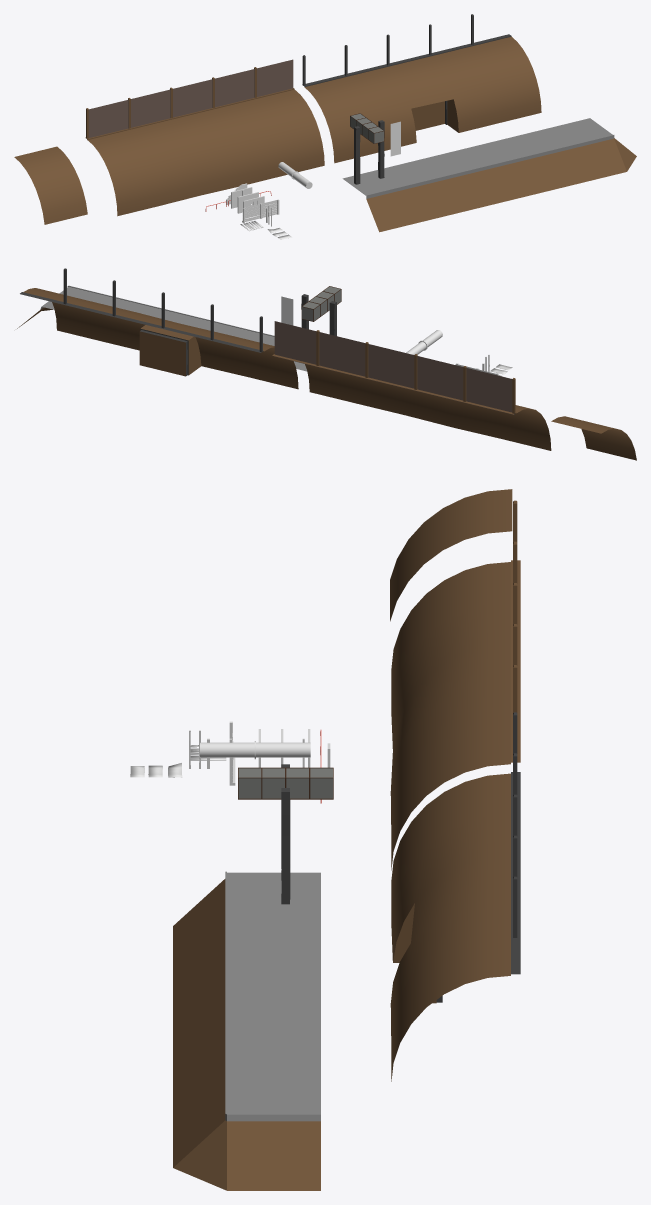
File: ConstructionsConcrete.fbx
The picture shows the model from 3 angles, top to bottom: view 1: azimuth 30°, elevation 25°; view 2: azimuth 150°, elevation 25°; view 3: azimuth 270°, elevation 25°; orthographic projection. The views are drawn at different scales.
Visible parts, largest first — view 1: moundside_panel, moundside_door, Plane.003, Plane.004, moundside_foliage, roadside_corner, metal_box_1x3, Cube.008, column_0.5x10_2, rect_1x3; view 2: moundside_door, moundside_panel, Plane.004, Plane.003, moundside_foliage, metal_box_1x3, roadside_corner, Cylinder, rect_1x3; view 3: Plane.003, moundside_door, moundside_panel, roadside_corner, moundside_foliage, metal_box_1x3, Cylinder, column_0.5x10.
Boxes of the visible parts, <box> form: moundside_panel: <box>85,67,324,216</box>; moundside_door: <box>302,14,541,163</box>; Plane.003: <box>342,128,586,232</box>; Plane.004: <box>87,59,293,140</box>; moundside_foliage: <box>14,146,87,224</box>; roadside_corner: <box>550,118,636,181</box>; metal_box_1x3: <box>350,113,384,143</box>; Cube.008: <box>242,200,277,220</box>; column_0.5x10_2: <box>354,126,360,184</box>; rect_1x3: <box>390,121,400,156</box>; moundside_door: <box>20,268,298,389</box>; moundside_panel: <box>272,330,551,450</box>; Plane.004: <box>274,321,514,414</box>; Plane.003: <box>107,297,307,371</box>; moundside_foliage: <box>551,416,636,460</box>; metal_box_1x3: <box>301,286,341,321</box>; roadside_corner: <box>17,285,112,328</box>; Cylinder: <box>406,330,442,354</box>; rect_1x3: <box>281,296,293,325</box>; Plane.003: <box>173,871,320,1127</box>; moundside_door: <box>390,712,520,1081</box>; moundside_panel: <box>390,500,520,870</box>; roadside_corner: <box>173,1074,320,1190</box>; moundside_foliage: <box>390,489,512,621</box>; metal_box_1x3: <box>238,767,333,799</box>; Cylinder: <box>200,741,310,759</box>; column_0.5x10: <box>281,788,290,904</box>.
Bounding box in the file's own units: 10644 × 2059 × 3260.
